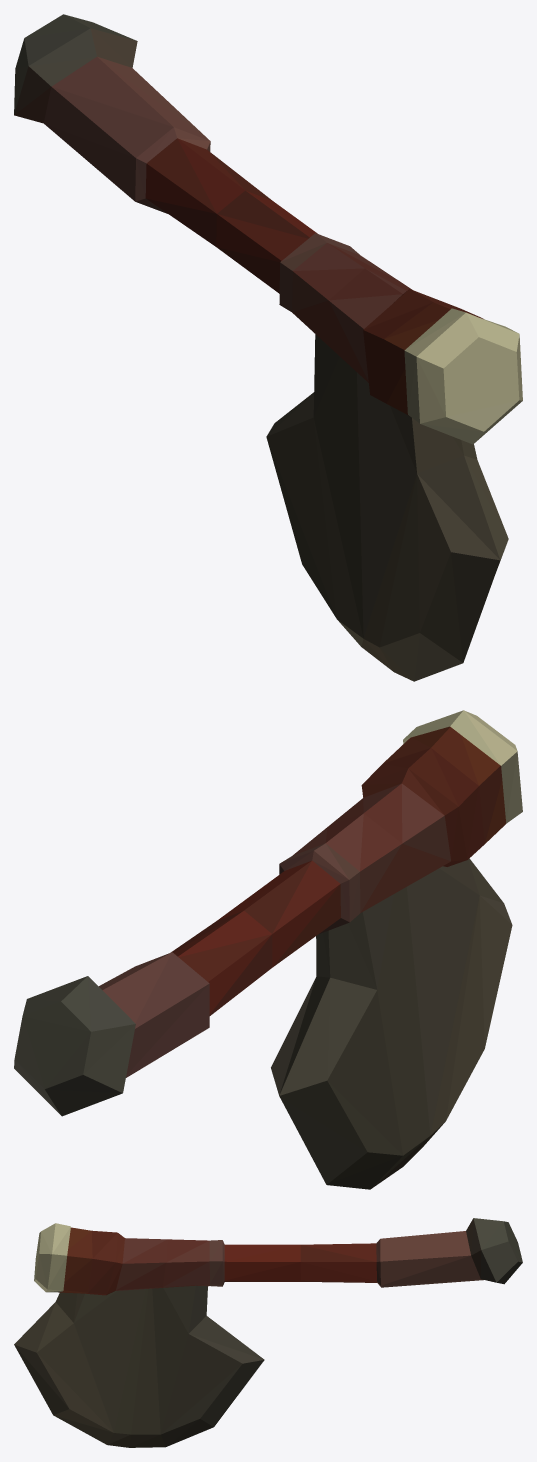
The model's file is weapon_axe_red.fbx.
The picture shows the model from 3 angles, top to bottom: view 1: azimuth 30°, elevation 25°; view 2: azimuth 150°, elevation 25°; view 3: azimuth 270°, elevation 25°; orthographic projection. The views are drawn at different scales.
Parts seen in each view (by area): view 1: weapon_axe_red; view 2: weapon_axe_red; view 3: weapon_axe_red.
Boxes of the visible parts, box(x1,y1,x2,y2) form: weapon_axe_red: box(14, 14, 522, 681); weapon_axe_red: box(14, 710, 522, 1189); weapon_axe_red: box(14, 1218, 522, 1447).
Size of the model in its own units: 0.248 by 0.897 by 1.79.
